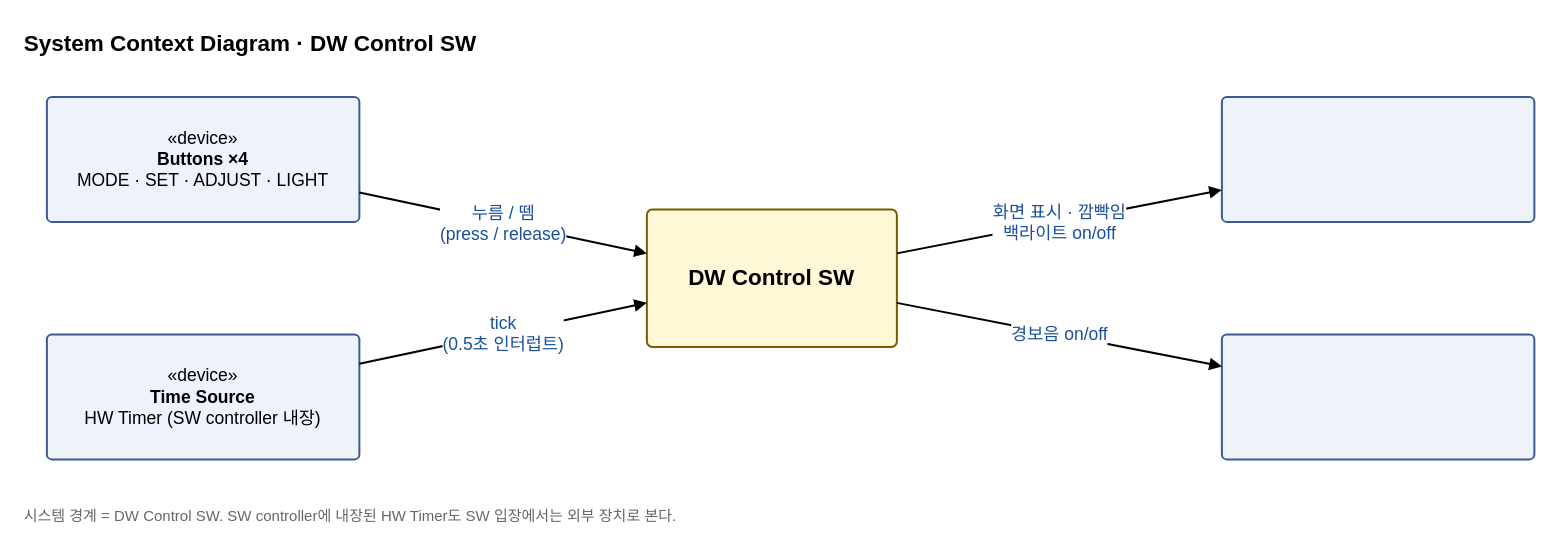
Image size: 1556x550. Some labels were removed from this diagram. Here are the shapes that lost their labels. From the top down, the centre of each, then its label:
At point (1377, 158): "«device» LCD (+ Backlight)".
At point (1377, 396): "«device» Buzzer".
